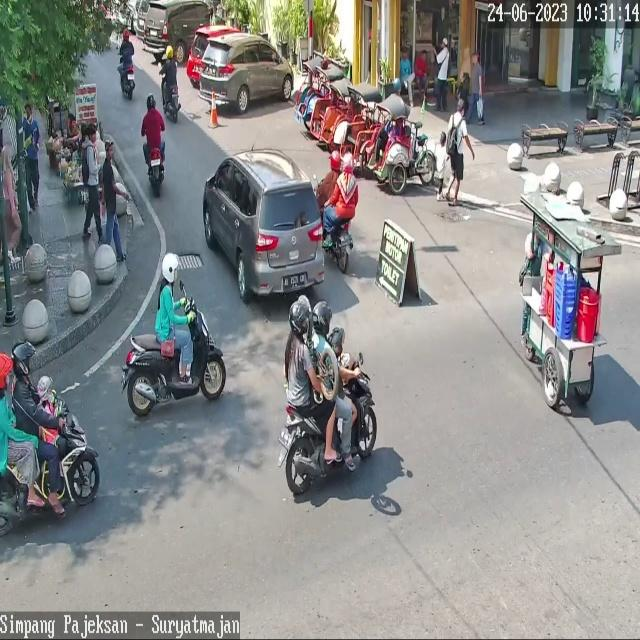bus: (0, 396, 99, 536), (286, 353, 377, 494), (126, 302, 227, 416), (328, 218, 353, 272), (147, 146, 165, 196), (162, 75, 181, 122), (121, 64, 135, 100)
motorcycle: (202, 148, 324, 302), (200, 33, 294, 113), (144, 0, 225, 64), (186, 24, 243, 80)
